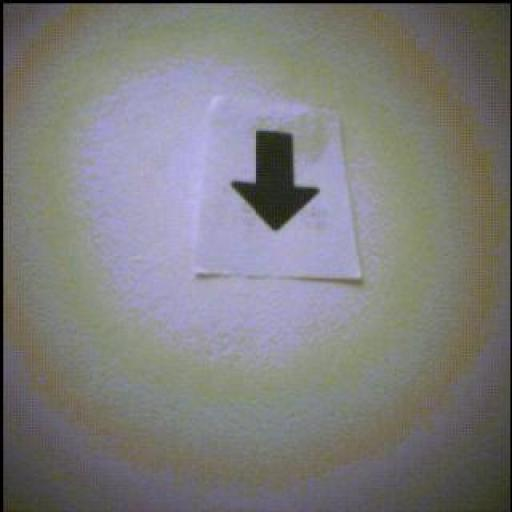Arrow: (233, 133, 319, 232)
